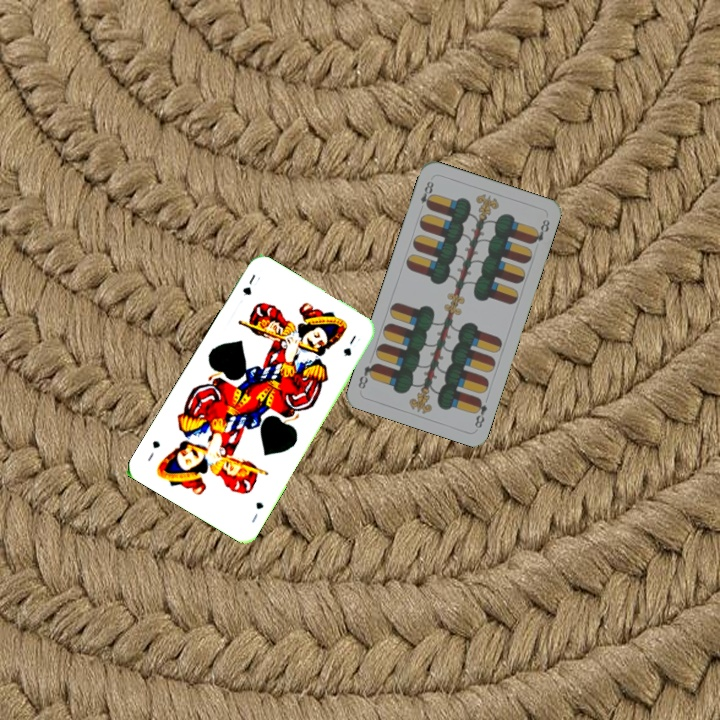E8: (470, 394, 490, 431), (416, 175, 436, 211)
GU: (238, 270, 258, 299), (247, 498, 266, 525)
